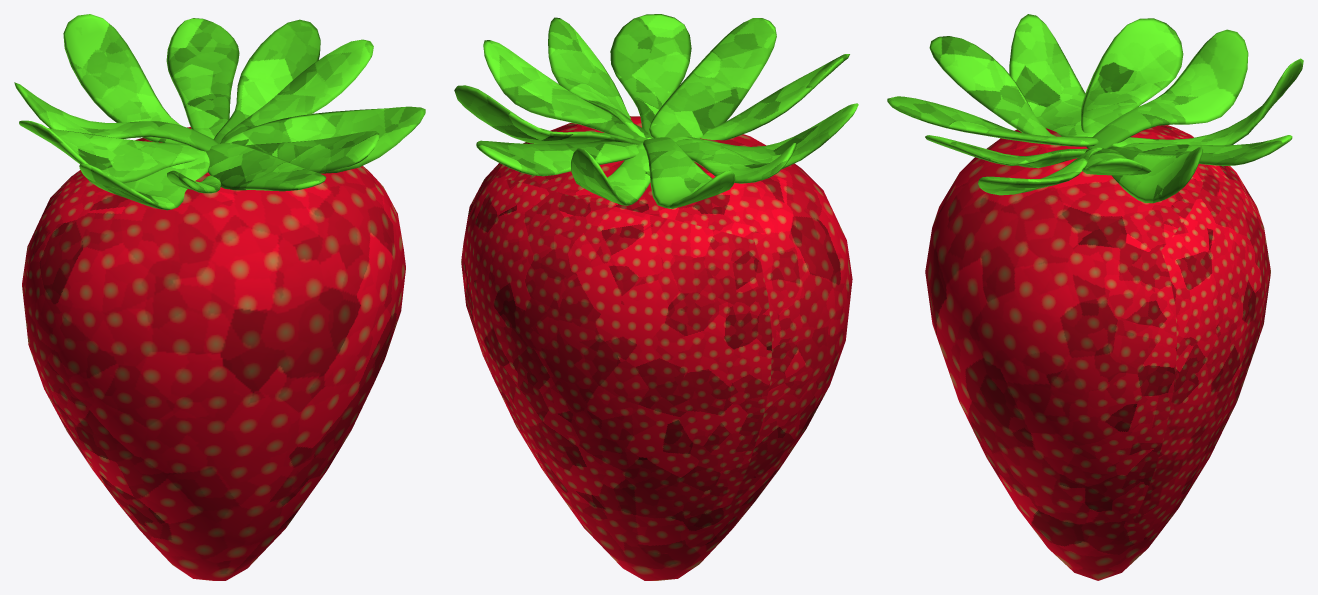
The model's file is Strawberry.fbx.
The picture shows the model from 3 angles, left to right: view 1: azimuth 30°, elevation 25°; view 2: azimuth 150°, elevation 25°; view 3: azimuth 270°, elevation 25°; orthographic projection.
Visible parts, largest first — view 1: Cube.018; view 2: Cube.018; view 3: Cube.018.
Part boxes in pixels (x1=…): Cube.018: x1=14, y1=14, x2=425, y2=580; Cube.018: x1=454, y1=14, x2=858, y2=580; Cube.018: x1=887, y1=14, x2=1303, y2=580.
Bounding box in the file's own units: 55.53 × 75.82 × 56.81.
